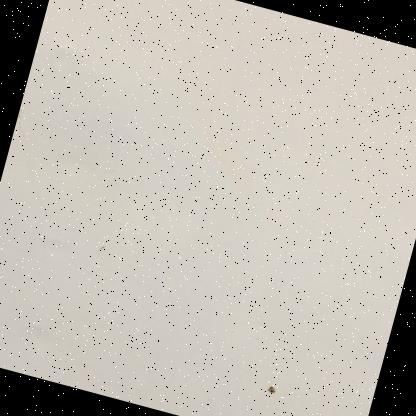Crack: (257, 368, 287, 406)
Nocrack: (0, 0, 336, 415)
